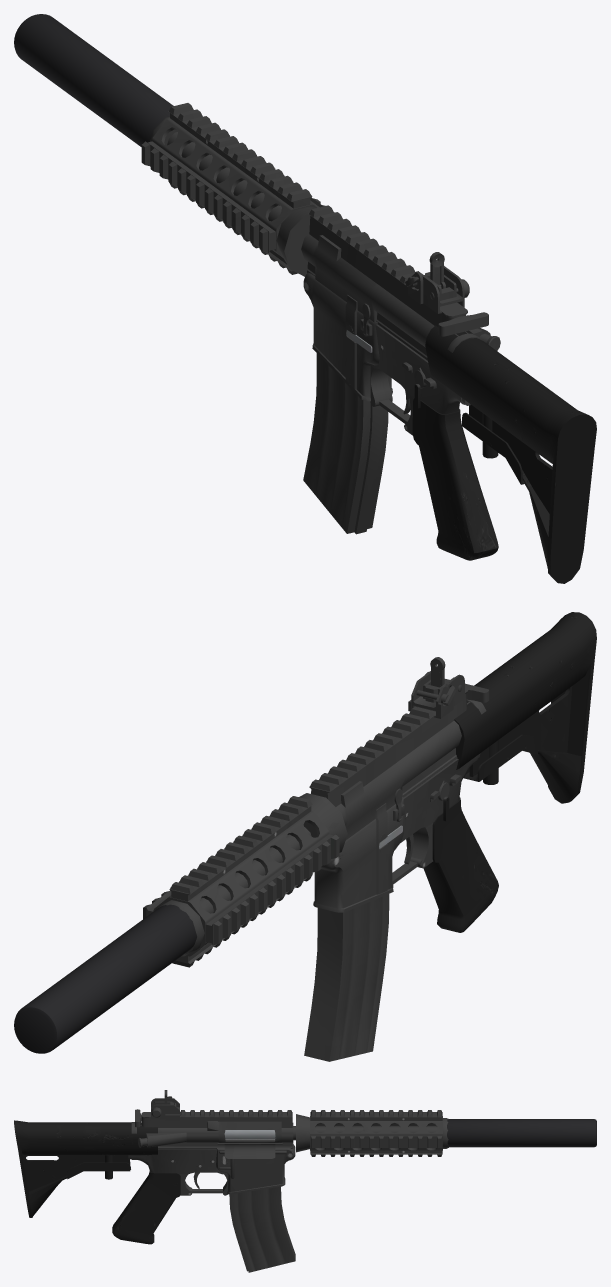
Rendered from kisa.glb.
The picture shows the model from 3 angles, top to bottom: view 1: azimuth 30°, elevation 25°; view 2: azimuth 150°, elevation 25°; view 3: azimuth 270°, elevation 25°; orthographic projection. The views are drawn at different scales.
Visible parts, largest first — view 1: govde, sarjor, surgu; view 2: govde, sarjor; view 3: govde, sarjor.
Part boxes in pixels (x1=…): govde: x1=14, y1=14, x2=596, y2=583; sarjor: x1=303, y1=353, x2=388, y2=534; surgu: x1=438, y1=312, x2=488, y2=336; govde: x1=14, y1=612, x2=596, y2=1053; sarjor: x1=304, y1=894, x2=389, y2=1061; govde: x1=14, y1=1090, x2=596, y2=1244; sarjor: x1=229, y1=1186, x2=295, y2=1272.
Bounding box in the file's own units: 0.0636 × 0.2609 × 0.768.
2 materials, 1 textured.
